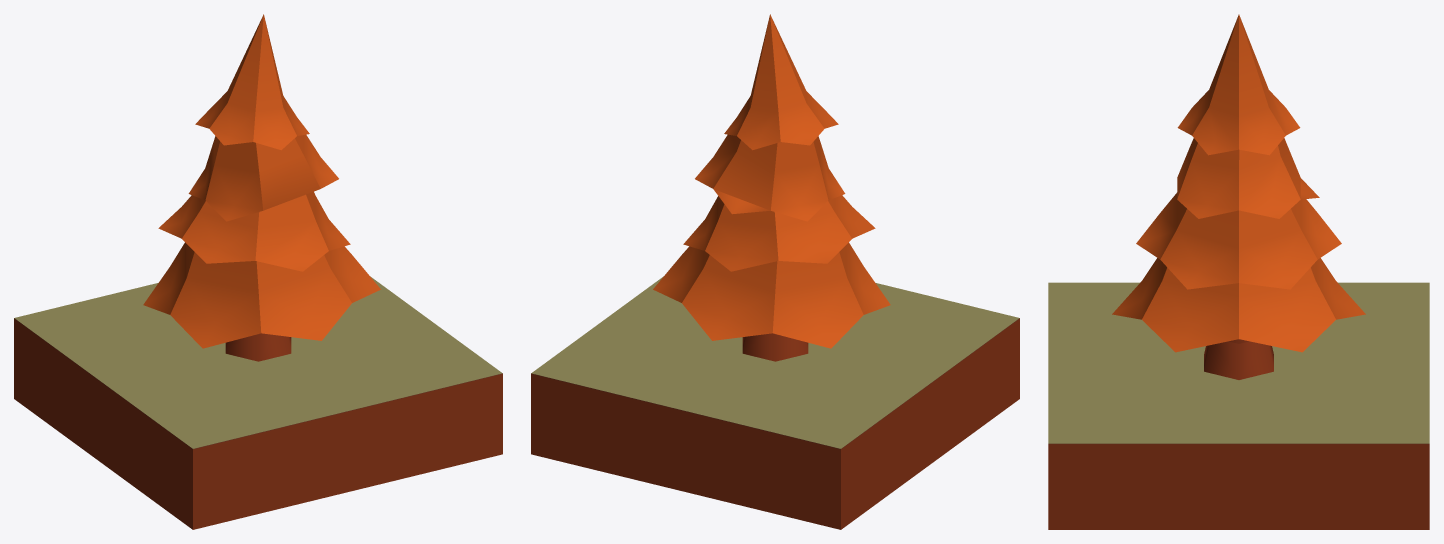
File: pineAutumn.fbx
3 renders of one model, left to right at view 1: azimuth 30°, elevation 25°; view 2: azimuth 150°, elevation 25°; view 3: azimuth 270°, elevation 25°, orthographic. The views are drawn at different scales.
Parts seen in each view (by area): view 1: pineAutumn; view 2: pineAutumn; view 3: pineAutumn.
Boxes of the visible parts, <box> form: pineAutumn: <box>14,14,502,529</box>; pineAutumn: <box>531,14,1019,529</box>; pineAutumn: <box>1048,14,1429,529</box>.
Bounding box in the file's own units: 200 × 254 × 200.
1 material, 1 textured.
